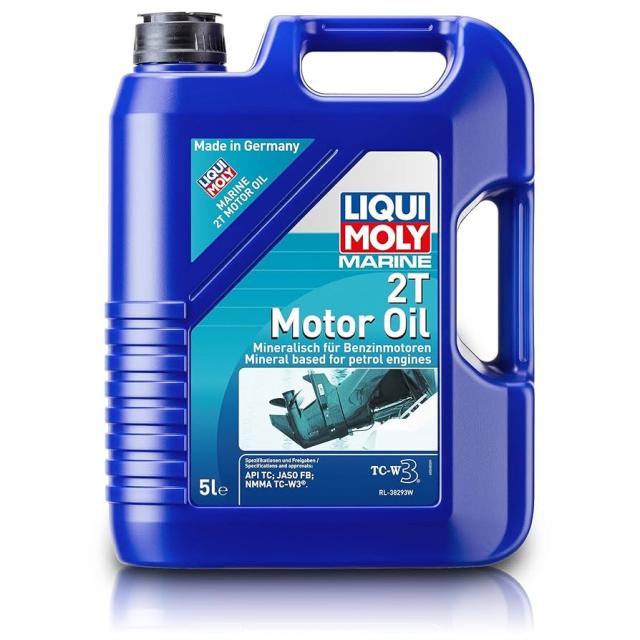motor_oil: (105, 9, 542, 580)
